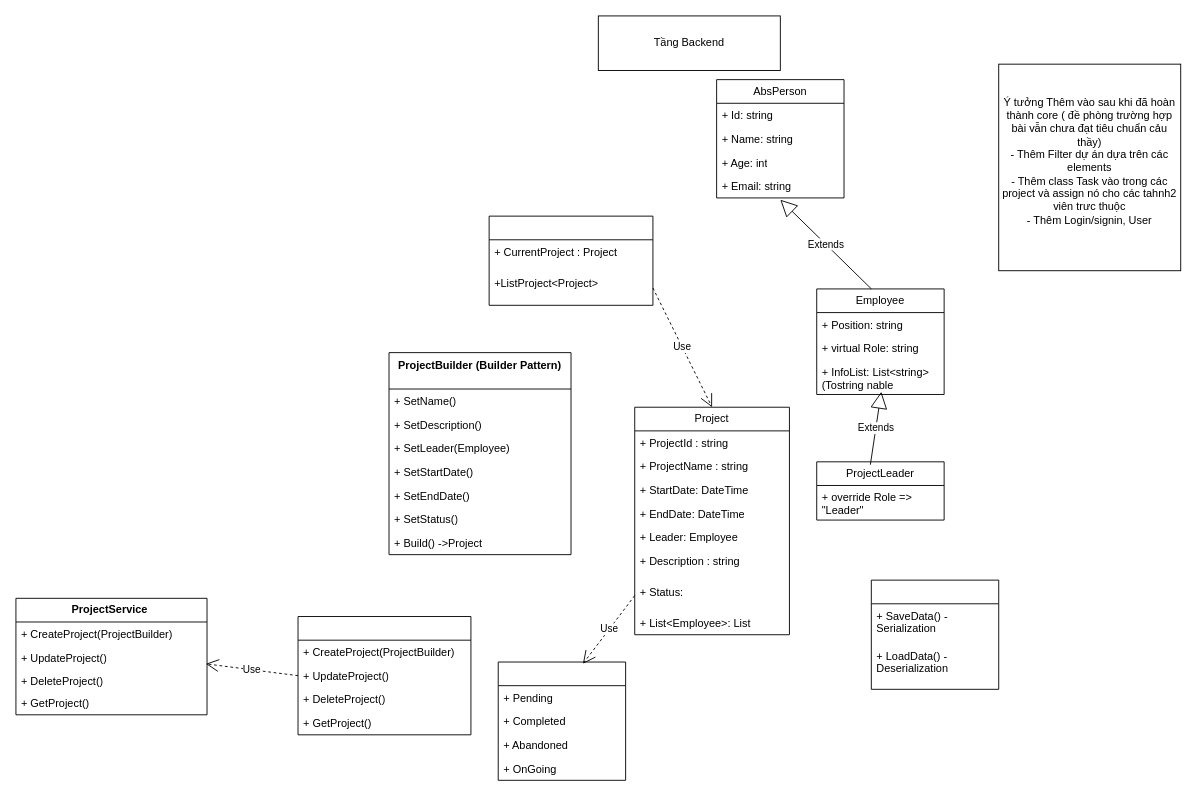
This 1197x799 diagram has some shape labels left out. Each missing label, with the box of its shape:
DataStorage (Singleton): (870, 579, 999, 689)
EnumStatus: (497, 661, 626, 780)
IProjectService : Interface: (297, 616, 471, 735)
SystemContext : SingleTon: (488, 215, 653, 305)
